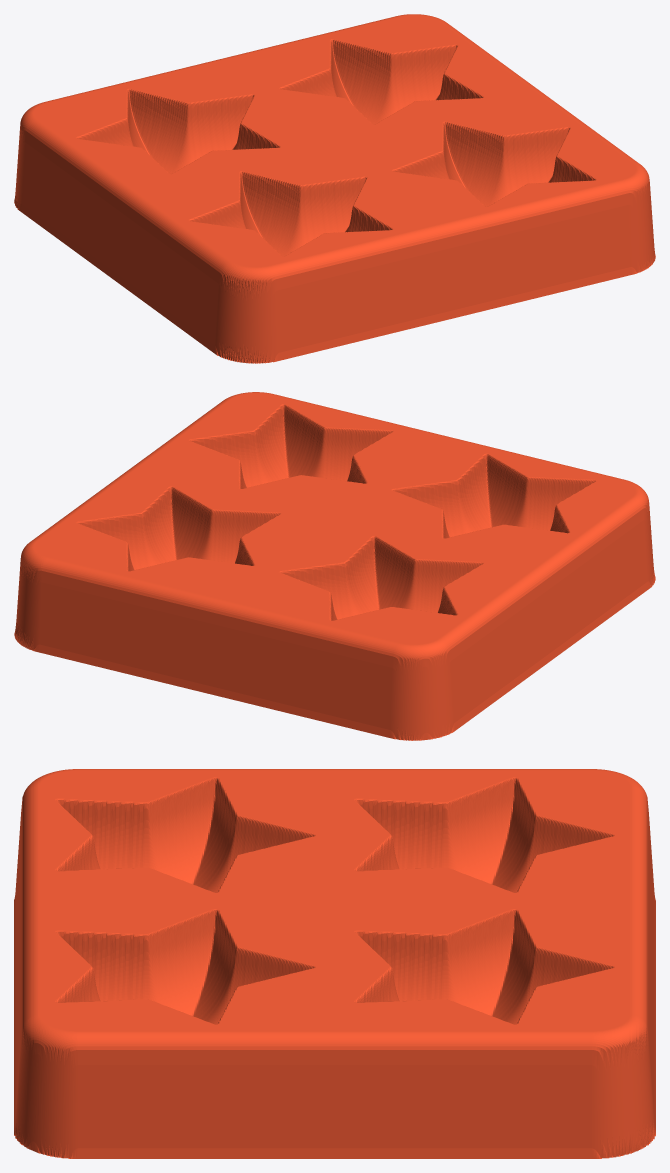
Rendered from mold.glb.
3 renders of one model, top to bottom at view 1: azimuth 30°, elevation 25°; view 2: azimuth 150°, elevation 25°; view 3: azimuth 270°, elevation 25°, orthographic. The views are drawn at different scales.
Visible parts, largest first — view 1: geometry_0; view 2: geometry_0; view 3: geometry_0.
Part boxes in pixels (x1=…): geometry_0: x1=14, y1=14, x2=655, y2=363; geometry_0: x1=14, y1=392, x2=655, y2=740; geometry_0: x1=14, y1=769, x2=655, y2=1158.
Bounding box in the file's own units: 0.0942 × 0.0182 × 0.0906.
